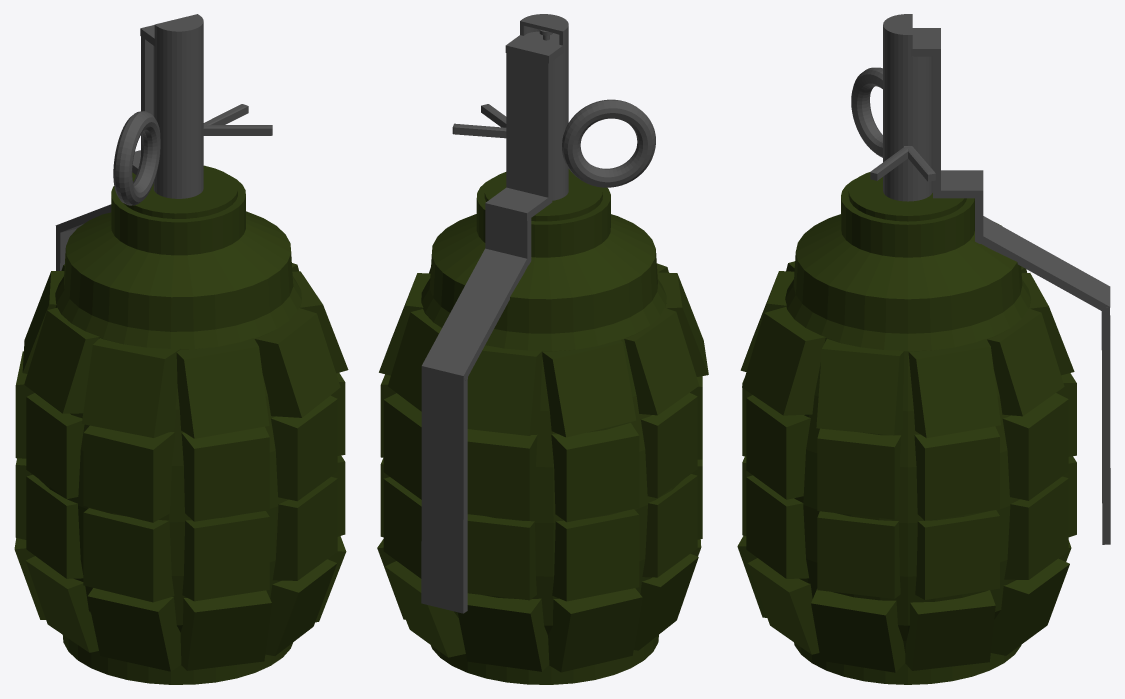
The model's file is F1Grenade.fbx.
The picture shows the model from 3 angles, left to right: view 1: azimuth 30°, elevation 25°; view 2: azimuth 150°, elevation 25°; view 3: azimuth 270°, elevation 25°; orthographic projection.
Parts seen in each view (by area): view 1: Sphere, Cube.036, Cube.039; view 2: Sphere, Cube.039, Cube.036; view 3: Sphere, Cube.039, Cube.036.
Boxes of the visible parts, bbox=[...] form: Sphere: bbox=[14, 14, 348, 684]; Cube.036: bbox=[113, 104, 272, 205]; Cube.039: bbox=[55, 25, 155, 270]; Sphere: bbox=[377, 14, 708, 684]; Cube.039: bbox=[421, 35, 563, 613]; Cube.036: bbox=[452, 99, 655, 187]; Sphere: bbox=[737, 14, 1076, 684]; Cube.039: bbox=[911, 28, 1110, 544]; Cube.036: bbox=[851, 67, 935, 181].
Bounding box in the file's own units: 479 × 1005 × 556.
